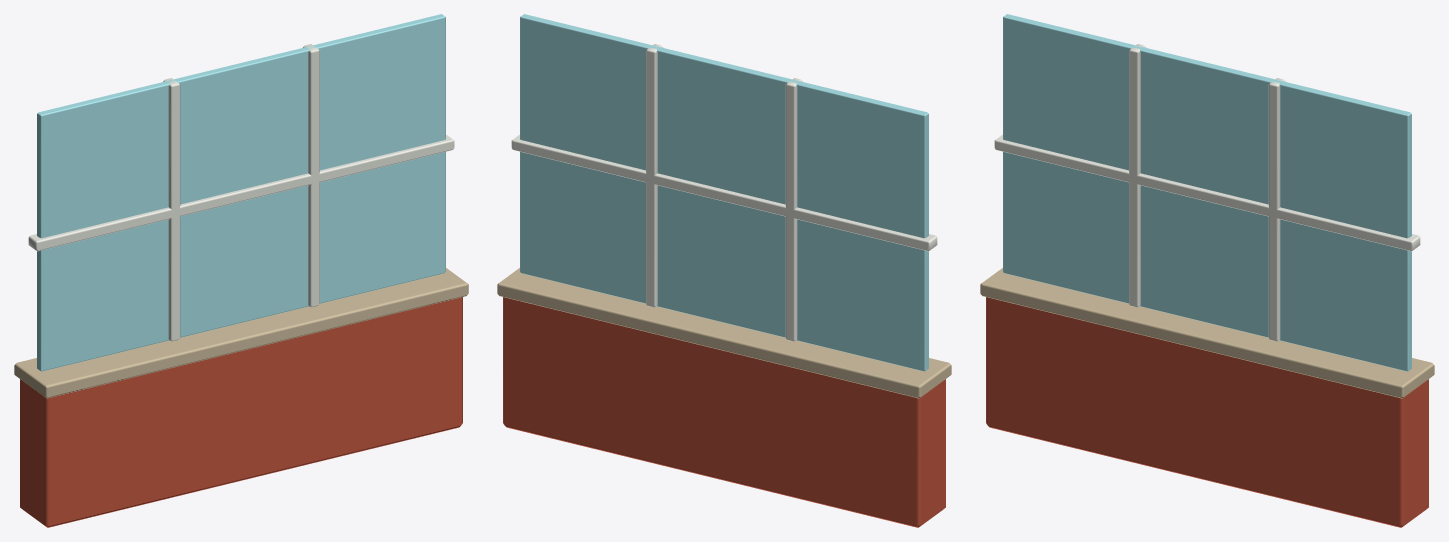
Rendered from glass_breach.glb.
The picture shows the model from 3 angles, left to right: view 1: azimuth 30°, elevation 25°; view 2: azimuth 150°, elevation 25°; view 3: azimuth 330°, elevation 25°; orthographic projection.
Parts seen in each view (by area): view 1: glass_breach; view 2: glass_breach; view 3: glass_breach.
Part boxes in pixels (box(x1,y1,x2,y2)): glass_breach: box(14, 14, 468, 527); glass_breach: box(497, 14, 951, 527); glass_breach: box(980, 14, 1434, 527).
Bounding box in the file's own units: 3.28 × 2.99 × 0.44.
